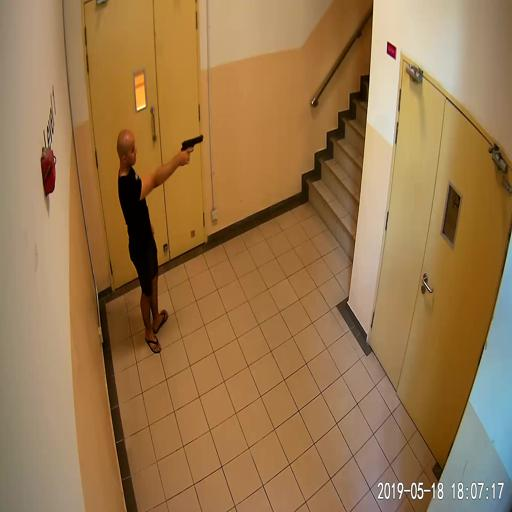pistol: (179, 134, 203, 166)
